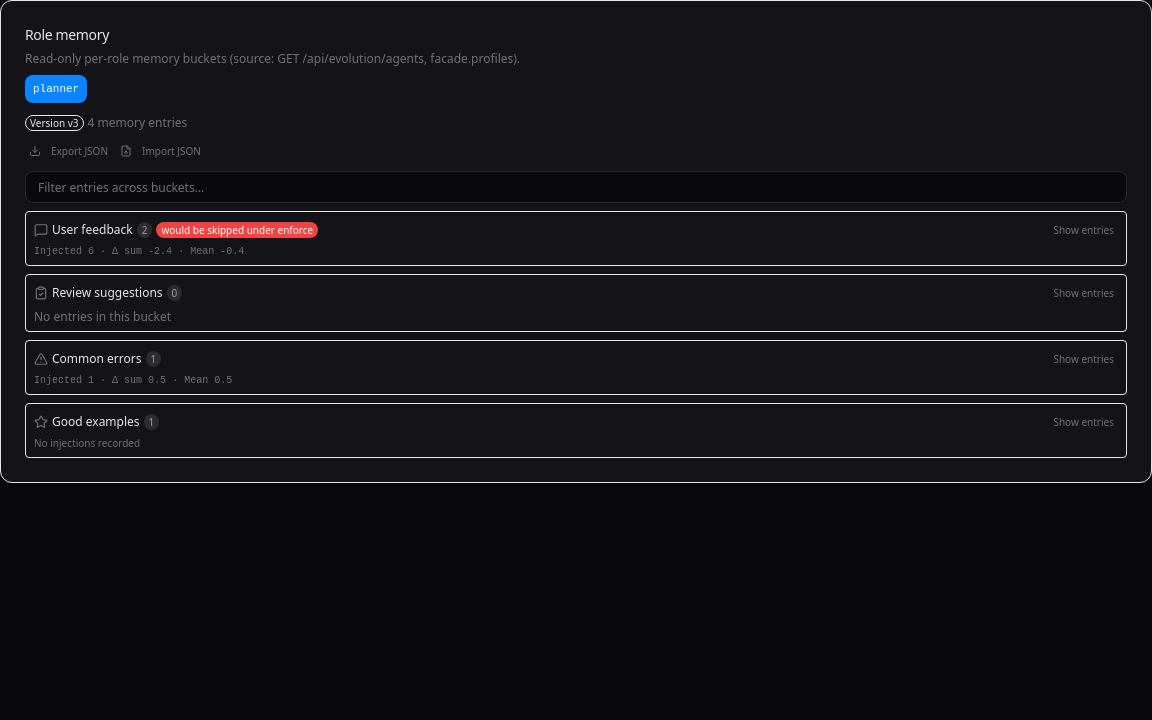
memory viewer render smoke › expands a single entry from the truncated preview to full content
Click the button with test id "memory-bucket-userFeedback-toggle": (1084, 230) x1=1049 y1=218 x2=1118 y2=242
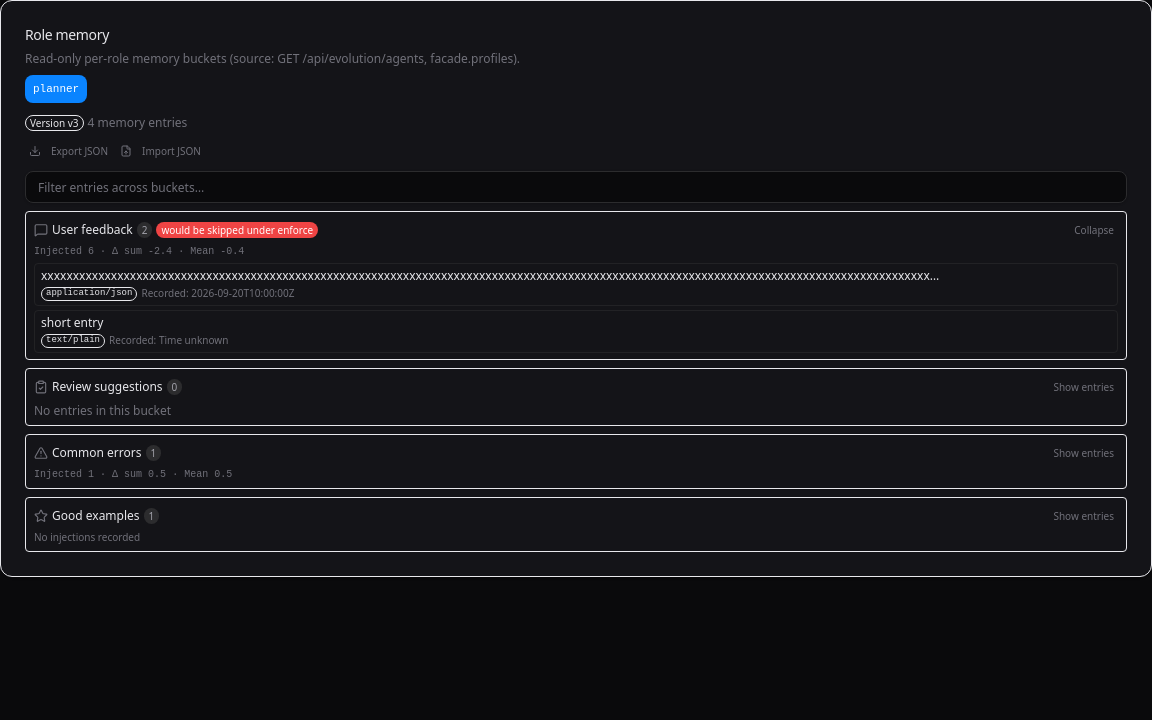
Click the button with test id "memory-entry-userFeedback-0": (576, 284) x1=41 y1=268 x2=1111 y2=301
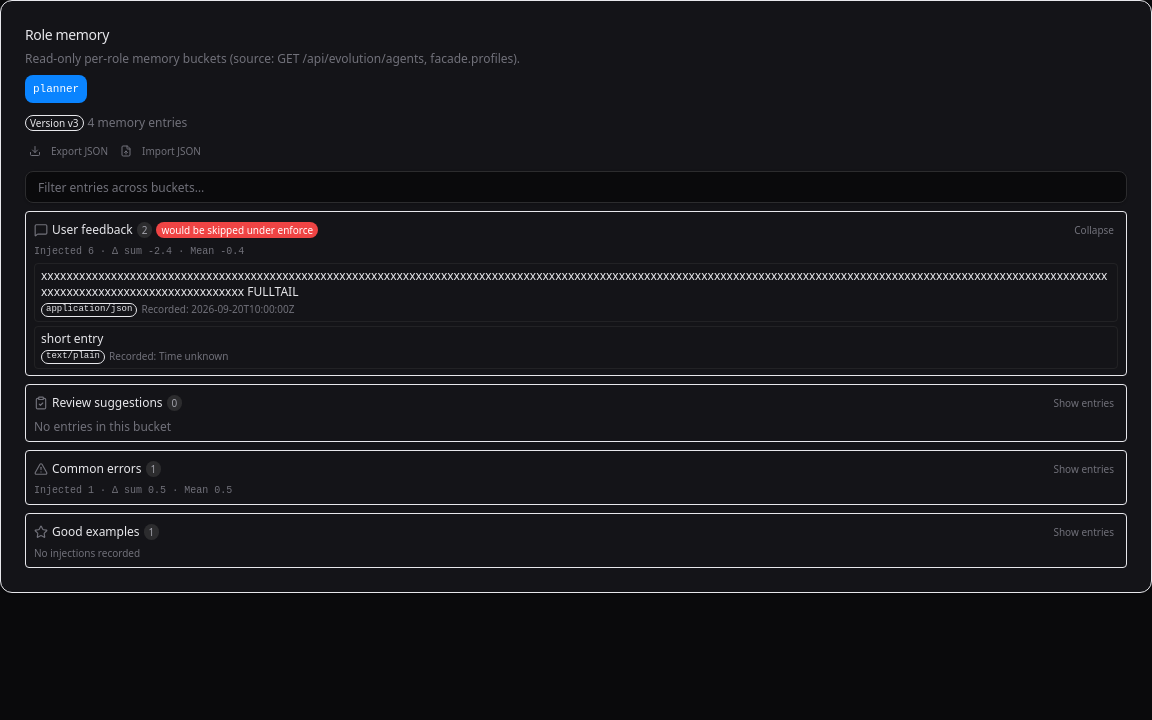
Result: the button with test id "memory-entry-userFeedback-1" shows "short entry" at x1=41 y1=331 x2=1111 y2=364
Result: the button with test id "memory-entry-userFeedback-0" shows "FULLTAIL" at x1=41 y1=268 x2=1111 y2=317
